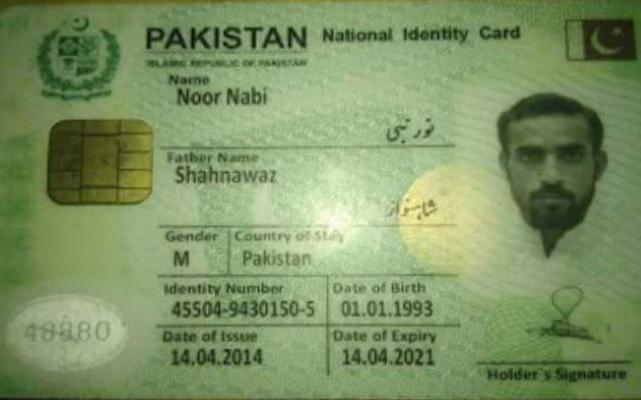fname: (170, 163, 281, 190)
name: (172, 84, 270, 110)
number: (167, 298, 319, 322)
